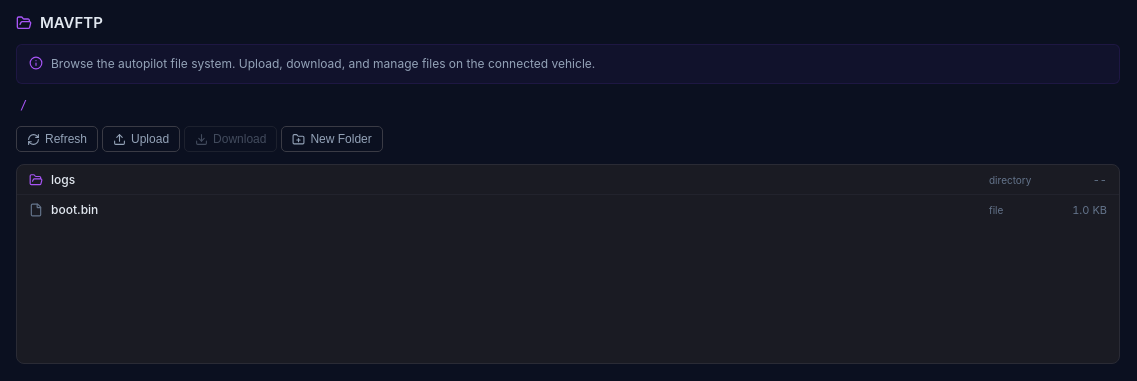
Test: MavFtp › navigates up from a subdirectory
Double-click the element with test id "ftp-entry-logs" at (568, 180), box [17,165,1119,195]
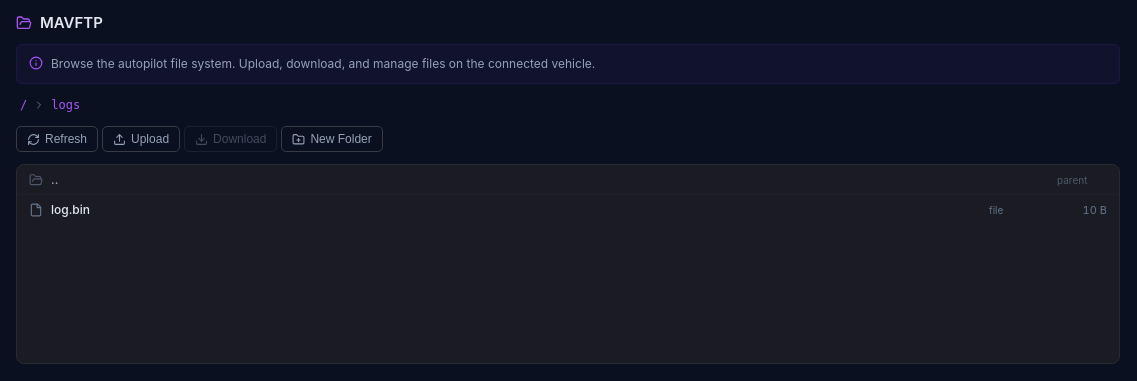
Result: the text "log.bin" is shown at [51,202,90,217]
Click the element with test id "ftp-nav-up" at (568, 180), box [17,165,1119,195]
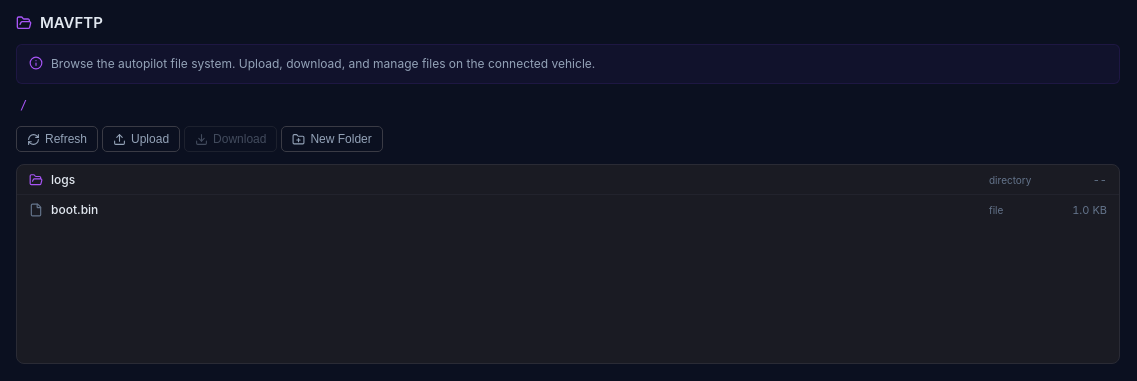
Result: the text "boot.bin" is shown at [51,202,98,217]
